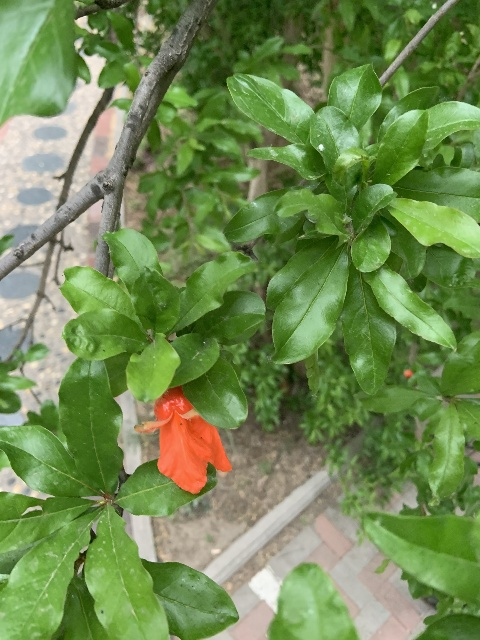flower: (134, 384, 232, 493)
